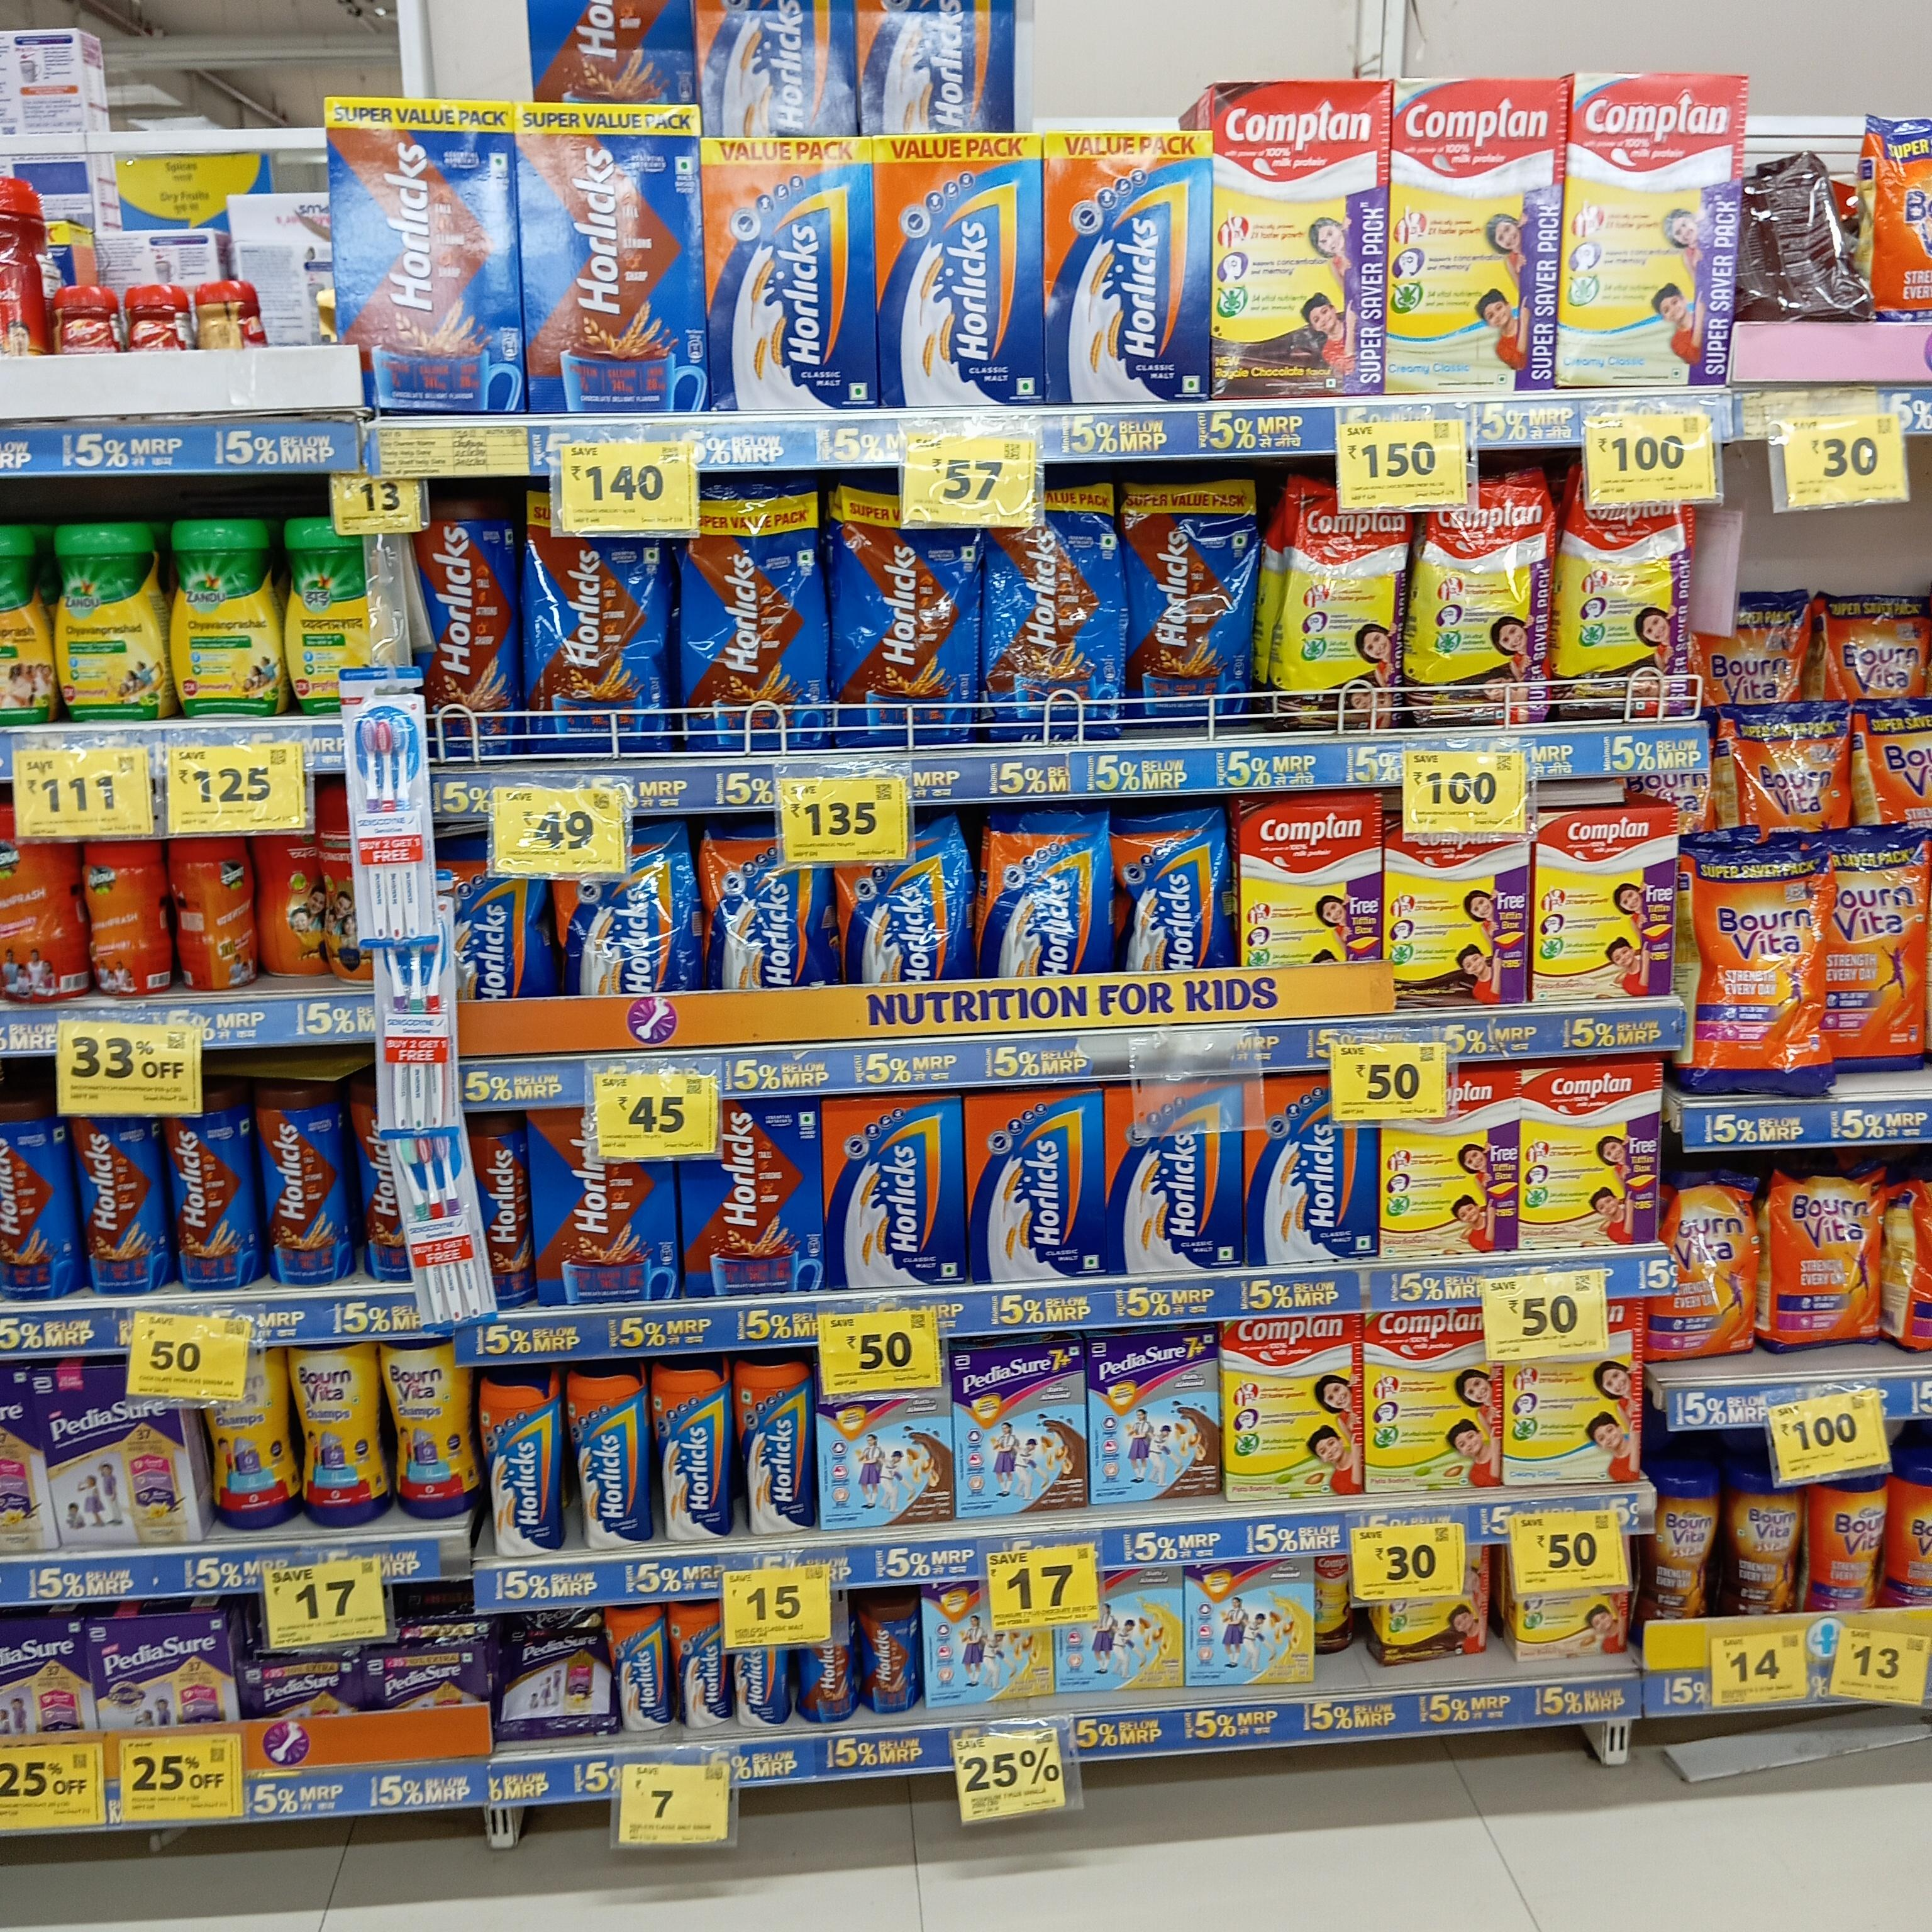BOURN_VITA_1_KG_POUCH: (1698, 851, 1828, 1093), (1835, 824, 1932, 1070)
BOURN_VITA_500_G_JAR: (1813, 1472, 1886, 1615)
BOURN_VITA_750_G_POUCH: (1773, 1171, 1879, 1348), (1674, 1187, 1757, 1355)
BOURN_VITA_CHAMPS_500_G_JAR: (382, 1329, 464, 1520), (294, 1341, 375, 1527)
BOURN_VITA_FIVE_STAR_MAGIC_500_G_JAR: (1730, 1474, 1801, 1621), (1656, 1472, 1718, 1619)
COMPLAN_CHOCOLATE_1_KG_PACK: (1212, 81, 1384, 398)
COMPLAN_CHOCOLATE_500_GMS_PACK: (1384, 828, 1527, 1007), (1237, 801, 1380, 962)
COMPLAN_CREAMY_CLASSIC_500_G_PACK: (1504, 1353, 1644, 1490)
COMPLAN_KESAR_BADAM_500_GMS_PACK: (1534, 816, 1672, 998), (1520, 1065, 1656, 1249), (1378, 1069, 1511, 1253)
COMPLAN_PISTA_BADAM_500_GMS_PACK: (1226, 1320, 1364, 1502), (1366, 1311, 1500, 1495)
COMPLAN_RC_POUCH_700_GMS_12: (1422, 483, 1553, 724), (1288, 479, 1405, 732), (1568, 499, 1691, 722)
HORLICK_CHOCOLATE_1_KG_JAR: (410, 488, 515, 759)
HORLICK_CHOCOLATE_1_KG_PACK: (329, 97, 520, 414), (520, 104, 695, 412)
HORLICK_CHOCOLATE_200_G_JAR: (856, 1605, 916, 1714)
HORLICK_CHOCOLATE_500_G_JAR: (258, 1083, 345, 1290), (170, 1086, 253, 1292), (76, 1111, 165, 1299), (0, 1099, 71, 1304), (474, 1118, 533, 1313)
HORLICK_CHOCOLATE_500_G_PACK: (533, 1108, 678, 1307), (685, 1100, 824, 1300)
HORLICK_CHOCOLATE_750_G_POUCH: (991, 487, 1136, 747), (686, 492, 826, 755), (837, 497, 977, 755), (529, 525, 669, 755), (1138, 479, 1256, 729)
HORLICK_CLASSIC_MALT_200_G_JAR: (671, 1603, 729, 1732), (610, 1608, 667, 1732)
HORLICK_CLASSIC_MALT_500_G_JAR: (570, 1373, 651, 1557), (483, 1371, 557, 1557), (655, 1366, 732, 1541), (738, 1352, 812, 1534)
HORLICK_CLASSIC_MALT_500_G_PACK: (708, 142, 872, 409), (1046, 131, 1207, 403), (879, 136, 1037, 405), (968, 1092, 1102, 1288), (832, 1097, 962, 1292), (1244, 1079, 1376, 1265), (1106, 1088, 1233, 1279)
HORLICK_CLASSIC_MALT_750_G_POUCH: (844, 824, 966, 993), (711, 823, 832, 993), (575, 833, 699, 996), (982, 816, 1100, 977), (1113, 819, 1224, 975)
PEDIASURE_7_PLUS_CHOCOLATE_400_G_PACK: (954, 1350, 1088, 1514), (1090, 1338, 1221, 1506), (817, 1384, 950, 1529)
PEDIASURE_VANILLA_500_G_PACK: (42, 1366, 196, 1546)
